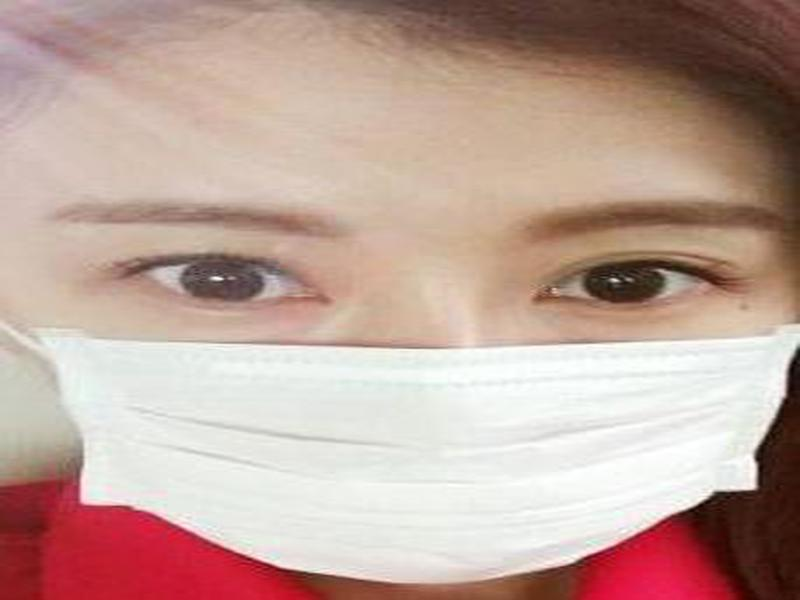with_mask: (1, 20, 795, 590)
